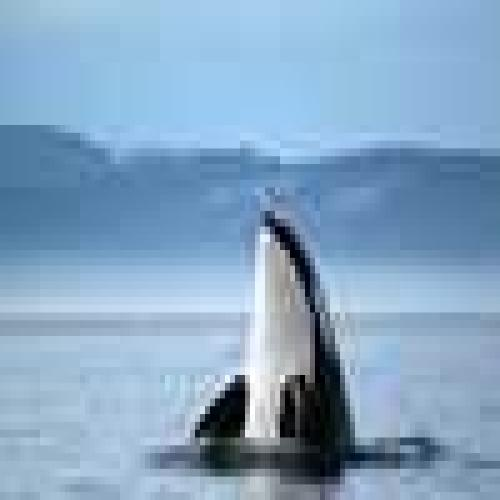killer_whale-endangered: (191, 183, 379, 493)
